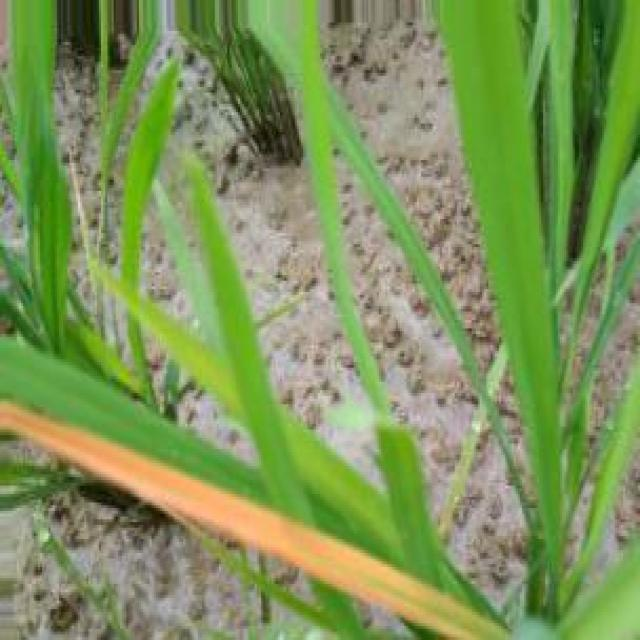Rice Tungro: (0, 402, 504, 638)
